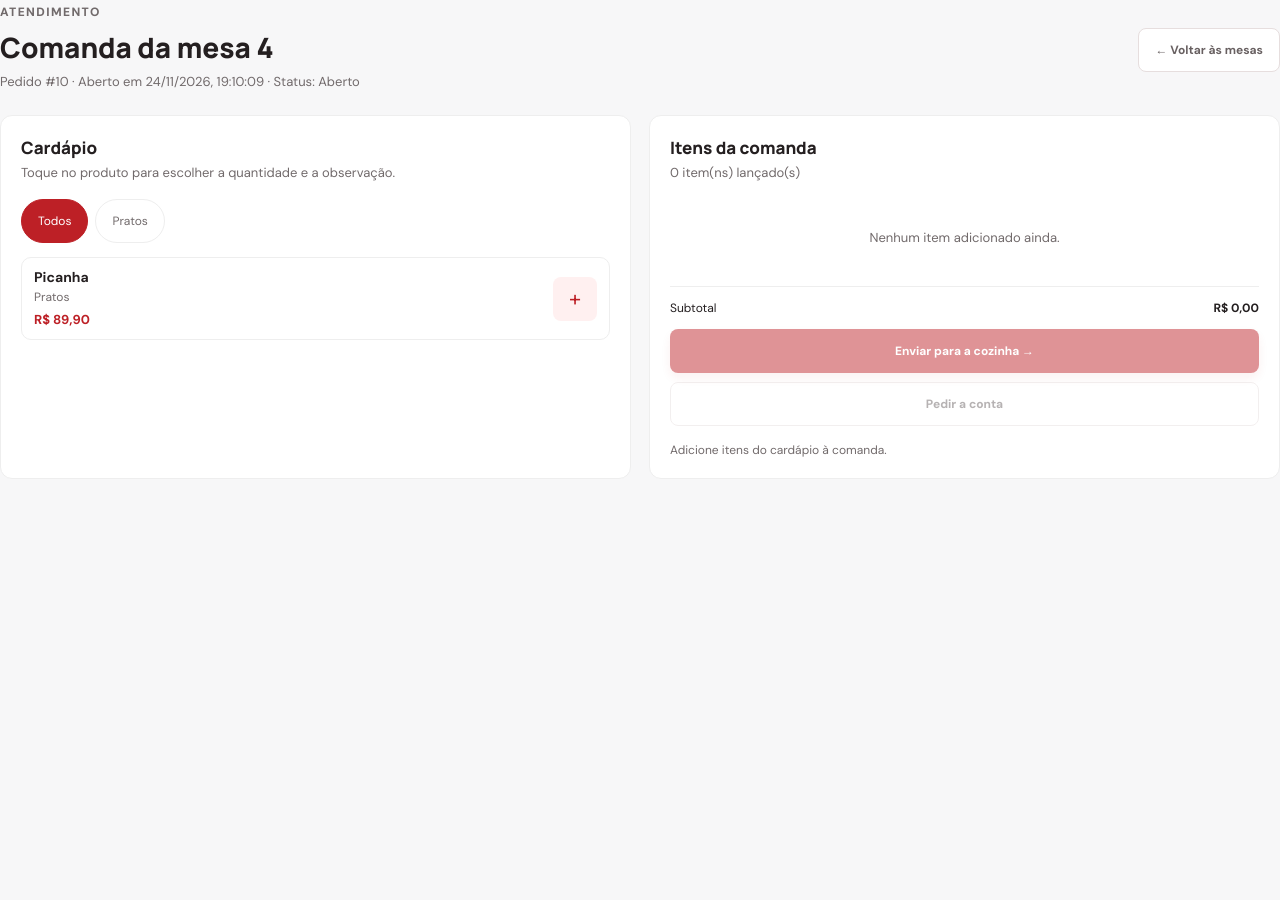
Test case: Comanda: adicionar item em modal (spec 012) › o card abre o modal; −/+ atualiza o total; adicionar envia e mostra o aviso
Click the button "Picanha Pratos R$ 89,90 +" at x=61, y=277, box [21,257,610,340]
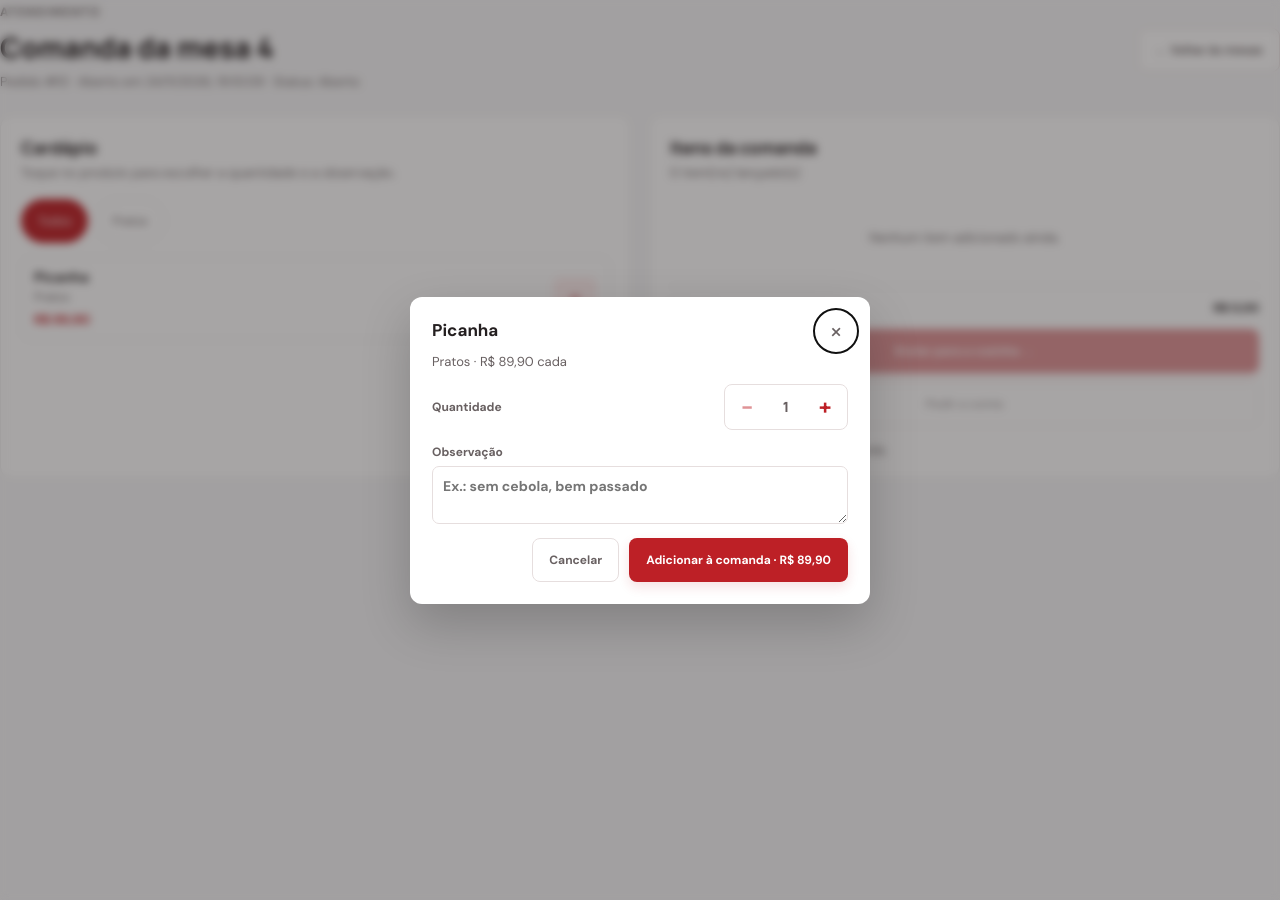
Expected: the button "Adicionar à comanda · R$ 89,90" is shown, [629,538,848,582]
Click the button named "Aumentar quantidade" at x=825, y=406, box [803,384,847,428]
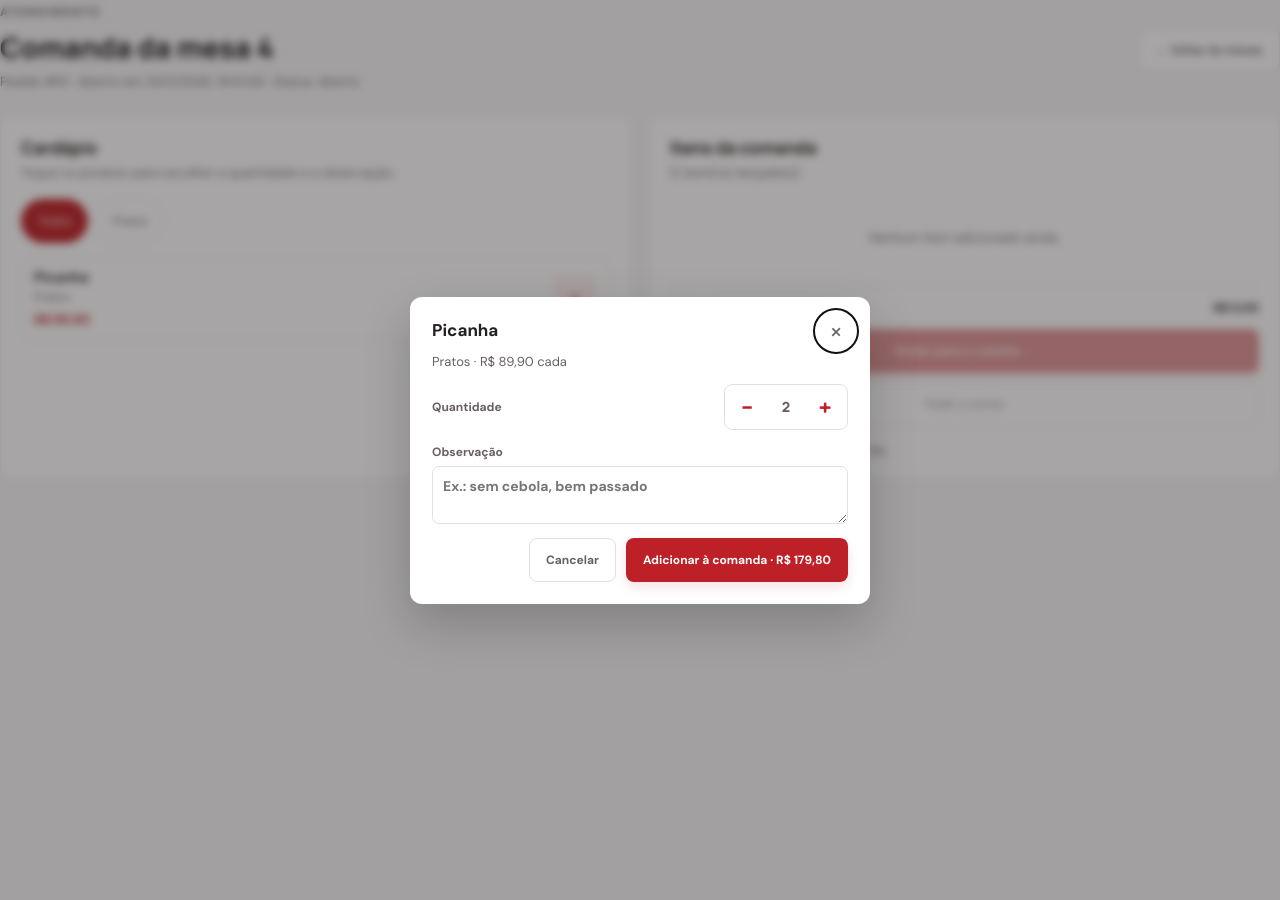
Expected: the button "Adicionar à comanda · R$ 179,80" is shown, [626,538,848,582]
Type "ao ponto" into the text box labelled "Observação" at x=640, y=494, box [432,466,848,524]
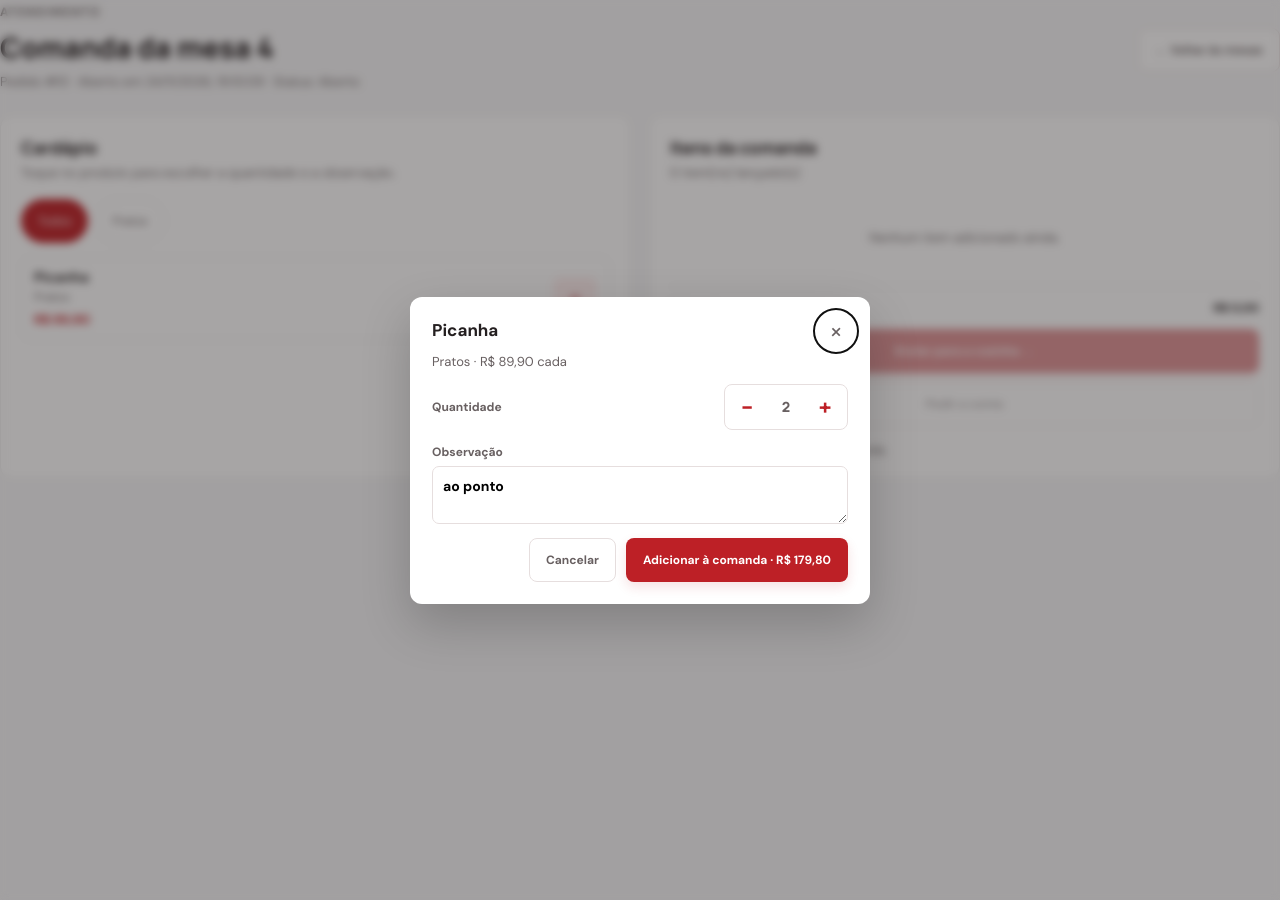
Click the button "Adicionar à comanda · R$ 179,80" at x=737, y=560, box [626,538,848,582]
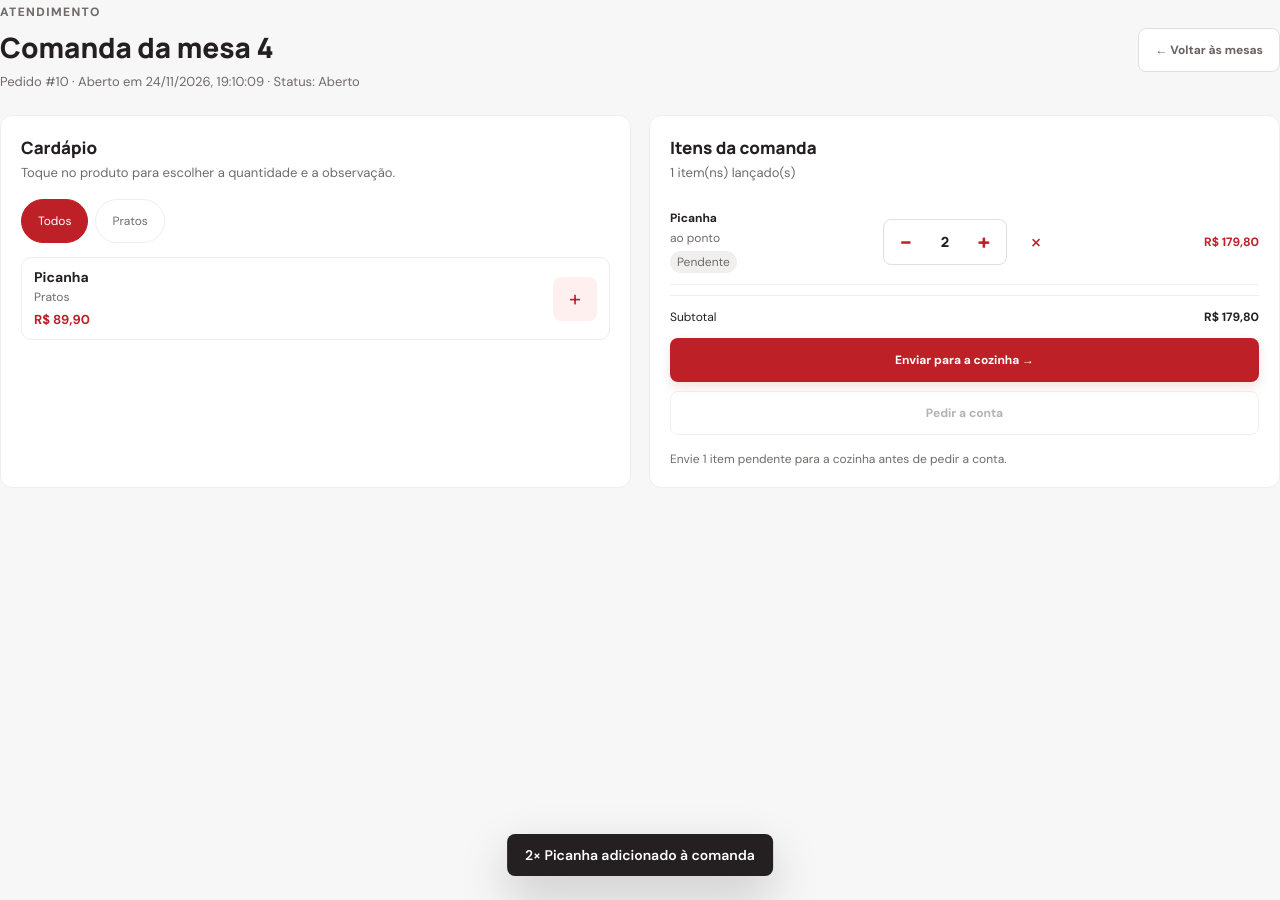
Expected: the message reads "2× Picanha adicionado à comanda", [525,846,755,864]
Expected: the dialog is gone
Expected: the text "ao ponto" is shown, [670,230,720,246]
